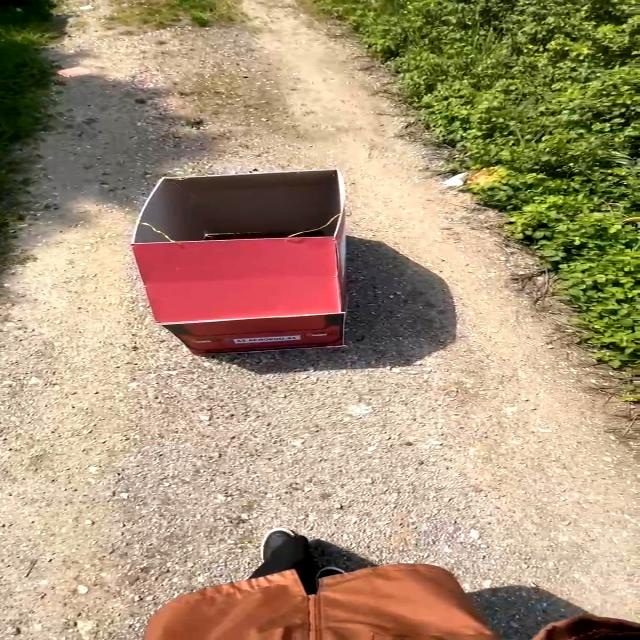red_car: (105, 167, 401, 372)
